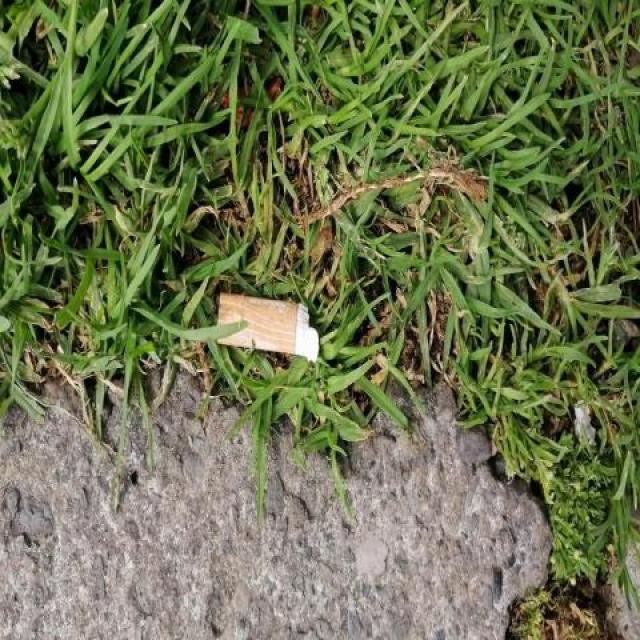non-organic waste: (214, 290, 321, 369)
